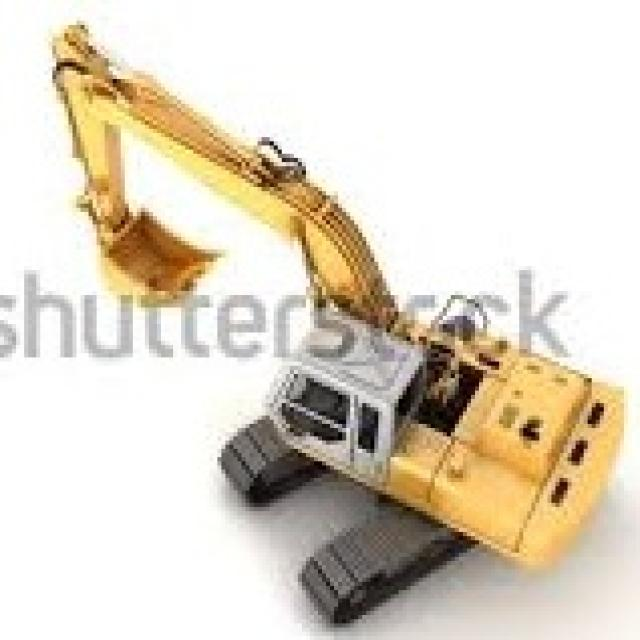excavator: (206, 212, 608, 608)
